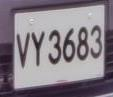3: (47, 27, 63, 69), (89, 23, 104, 64)
6: (62, 25, 77, 66)
8: (76, 23, 90, 65)
V: (16, 26, 30, 76)
Y: (31, 28, 47, 73)
